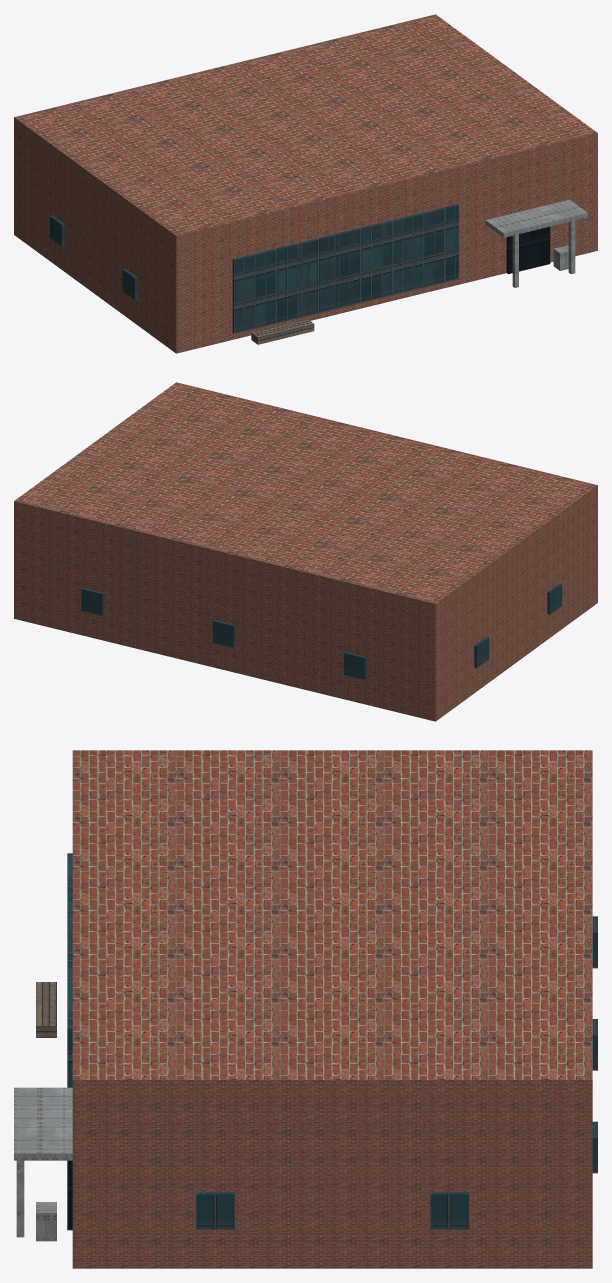
Rendered from library-branch_lod0.gltf.
3 renders of one model, top to bottom at view 1: azimuth 30°, elevation 25°; view 2: azimuth 150°, elevation 25°; view 3: azimuth 270°, elevation 25°, orthographic. The views are drawn at different scales.
Parts seen in each view (by area): view 1: library-branch_main, library-branch_fen_07-glass-curtain-blue_0, library-branch__entry_canopy, library-branch_fen_07-glass-curtain-blue_1_t, library-branch__benches; view 2: library-branch_main, library-branch_fen_07-glass-curtain-blue_0; view 3: library-branch_main, library-branch_fen_07-glass-curtain-blue_0, library-branch__entry_canopy, library-branch__benches, library-branch__book_drop, library-branch__canopy_post_b.
Part boxes in pixels (x1,y1,x2,y2): library-branch_main: (14, 14, 597, 353); library-branch_fen_07-glass-curtain-blue_0: (49, 204, 458, 333); library-branch__entry_canopy: (485, 199, 587, 237); library-branch_fen_07-glass-curtain-blue_1_t: (506, 226, 550, 274); library-branch__benches: (251, 319, 314, 344); library-branch_main: (14, 382, 597, 721); library-branch_fen_07-glass-curtain-blue_0: (81, 583, 562, 679); library-branch_main: (72, 750, 592, 1268); library-branch_fen_07-glass-curtain-blue_0: (67, 853, 597, 1229); library-branch__entry_canopy: (14, 1087, 72, 1160); library-branch__benches: (36, 982, 56, 1037); library-branch__book_drop: (36, 1202, 56, 1241); library-branch__canopy_post_b: (16, 1160, 24, 1237).
Bounding box in the file's own units: 30.4 × 8 × 22.45.
